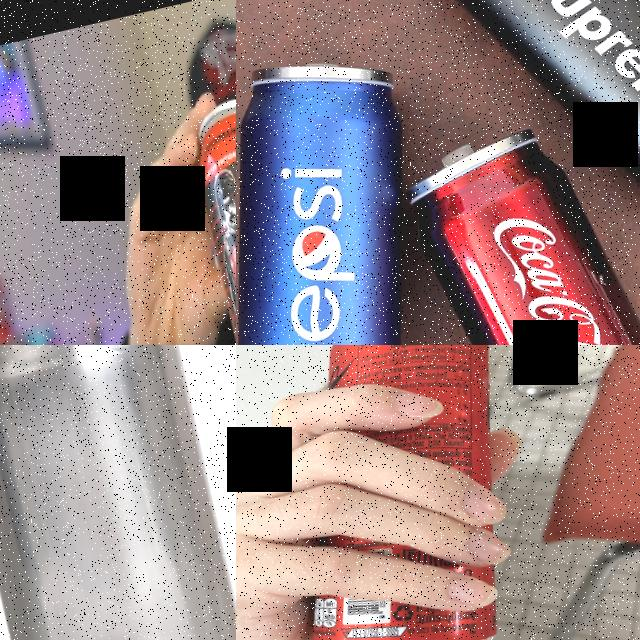can: (239, 345, 561, 640), (236, 29, 495, 345), (396, 0, 640, 292), (0, 345, 236, 640), (395, 106, 640, 345)
